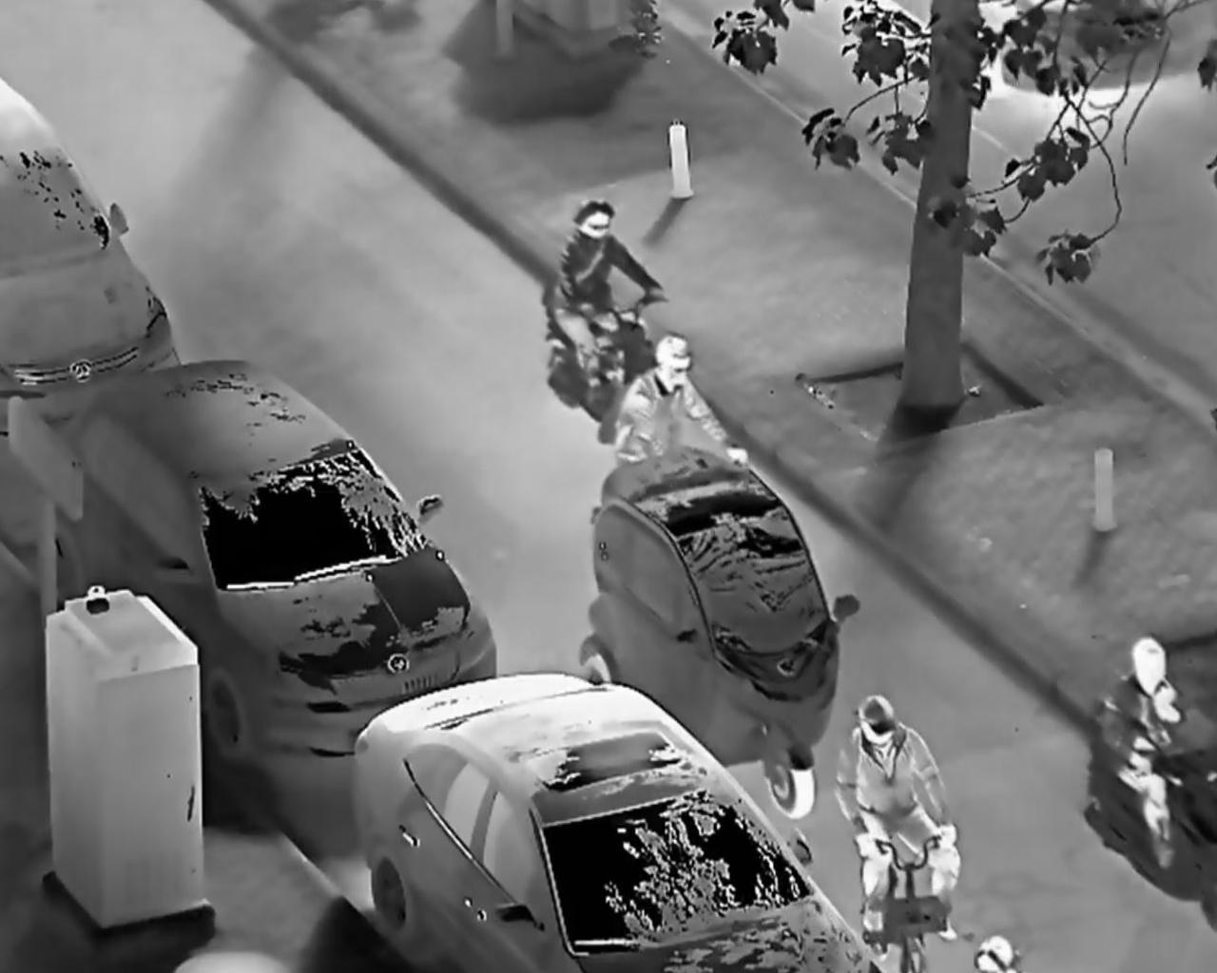person: (833, 688, 965, 945), (540, 194, 675, 415), (1093, 633, 1183, 851), (615, 331, 753, 470)
